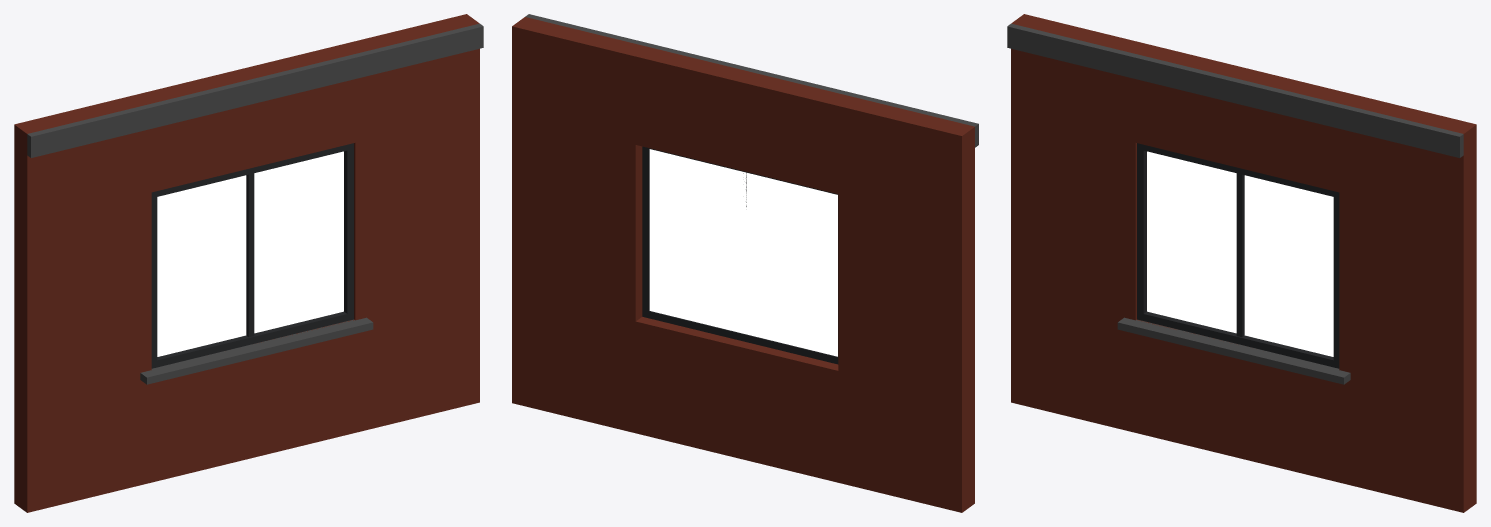
The model's file is KIT_Wall_4m_WindowLit_Brick.glb.
3 views of the same model, side by side, from view 1: azimuth 30°, elevation 25°; view 2: azimuth 150°, elevation 25°; view 3: azimuth 330°, elevation 25° (orthographic).
Parts seen in each view (by area): view 1: KIT_Wall_4m_WindowLit_Brick; view 2: KIT_Wall_4m_WindowLit_Brick; view 3: KIT_Wall_4m_WindowLit_Brick.
Part boxes in pixels (x1,y1,x2,y2): KIT_Wall_4m_WindowLit_Brick: [14, 14, 483, 512]; KIT_Wall_4m_WindowLit_Brick: [512, 14, 978, 512]; KIT_Wall_4m_WindowLit_Brick: [1007, 14, 1476, 512].
Size of the model in its own units: 4 by 3.2 by 0.3.
